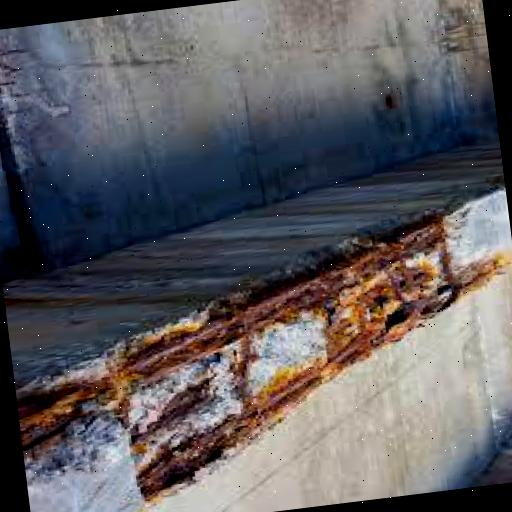spalling: (16, 206, 508, 504)
